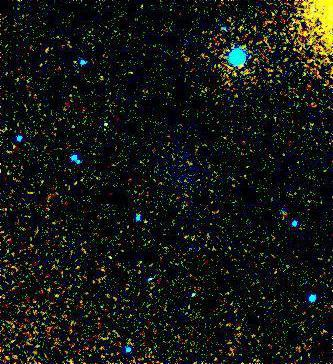star: (176, 223, 206, 253)
